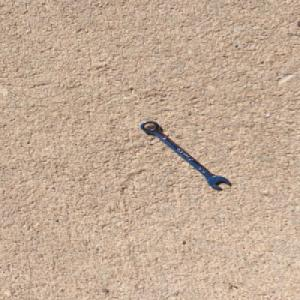Wrench: (138, 119, 232, 191)
